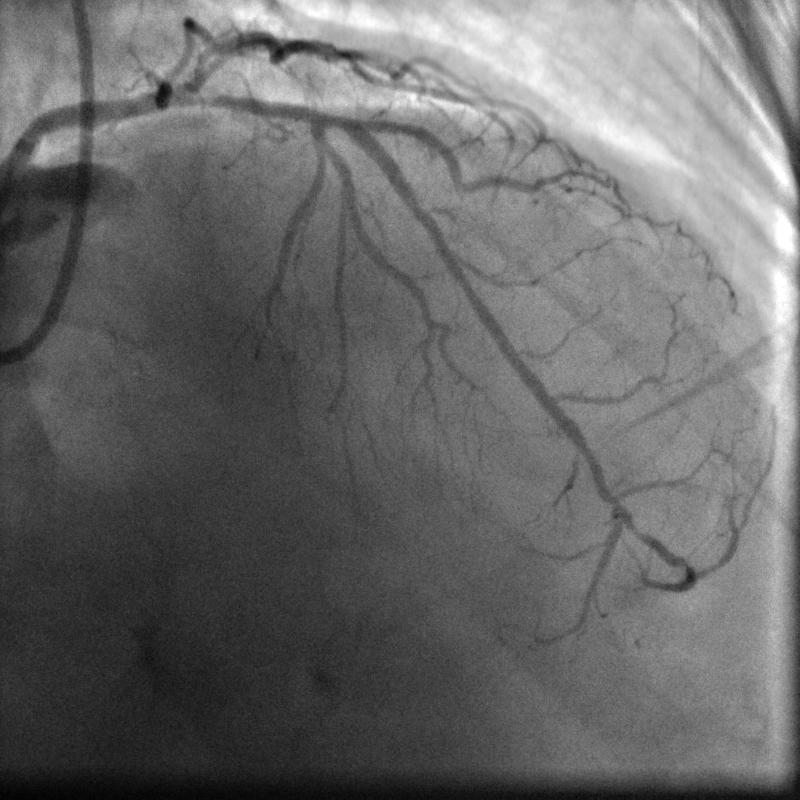Stenosis: (179, 89, 248, 115)
